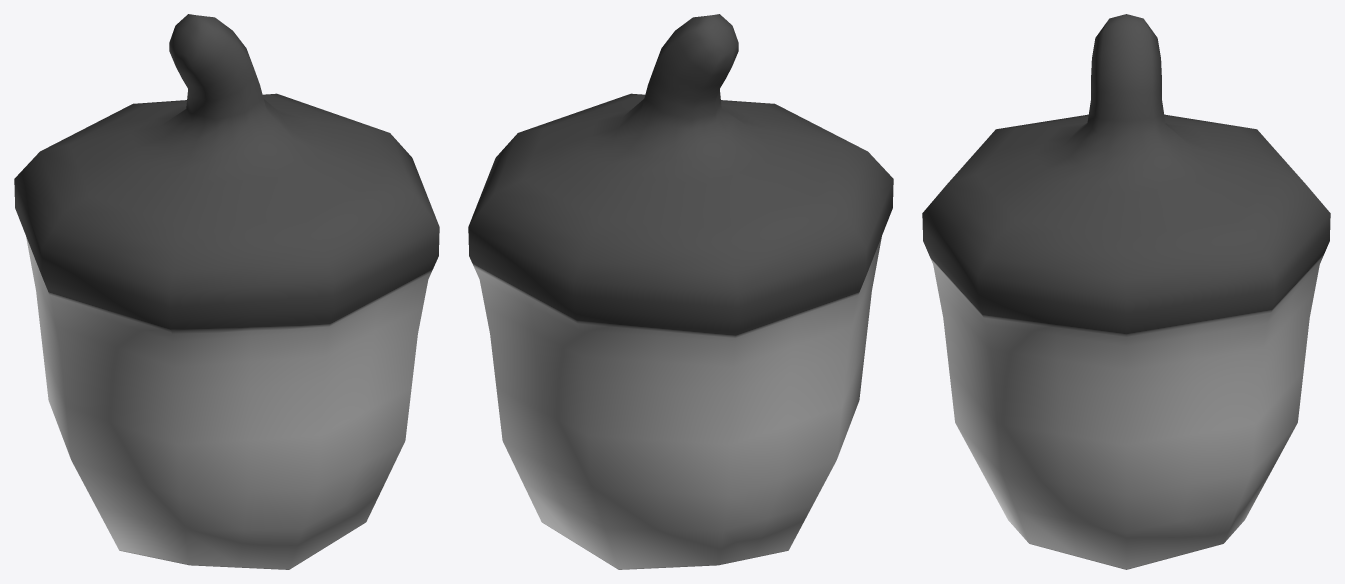
File: bellota.fbx
3 renders of one model, left to right at view 1: azimuth 30°, elevation 25°; view 2: azimuth 150°, elevation 25°; view 3: azimuth 270°, elevation 25°, orthographic. The views are drawn at different scales.
Parts seen in each view (by area): view 1: Cubo; view 2: Cubo; view 3: Cubo.
Boxes of the visible parts, left/top/right/bottom form: Cubo: left=14, top=14, right=439, bottom=569; Cubo: left=468, top=14, right=893, bottom=569; Cubo: left=922, top=14, right=1330, bottom=569.
Size of the model in its own units: 210 by 299 by 210.
